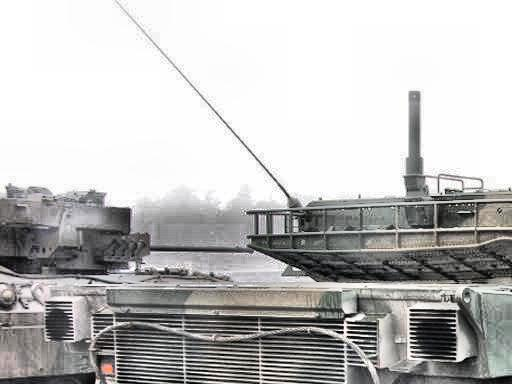tanks: (93, 93, 512, 384), (1, 185, 253, 384)
